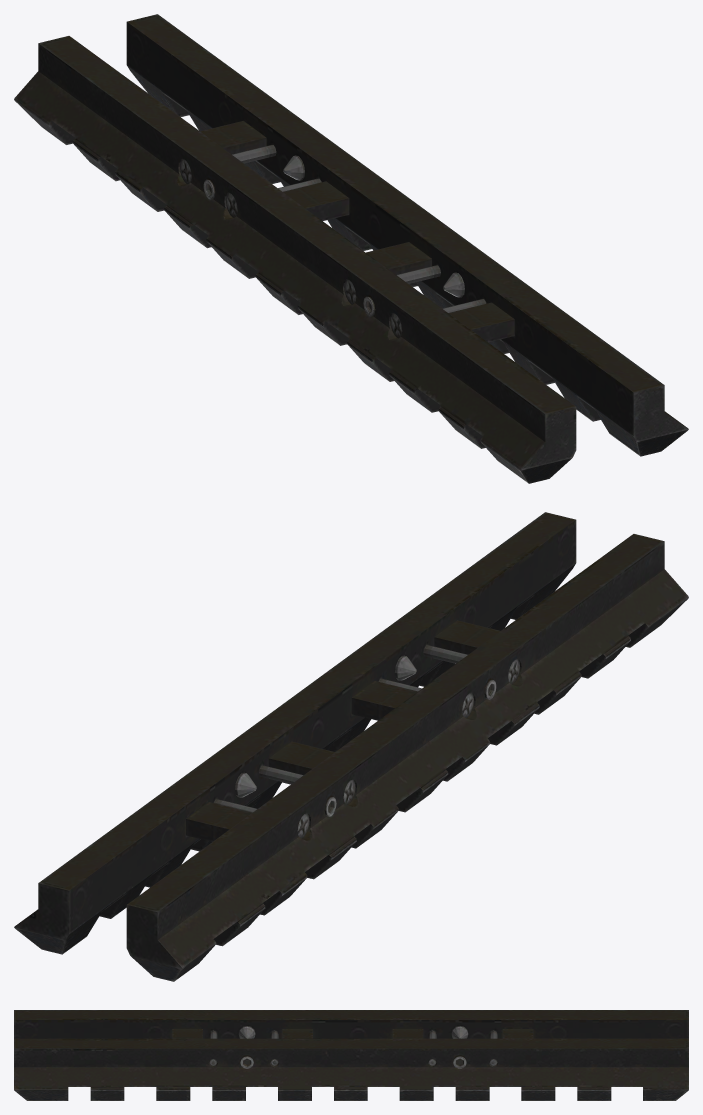
The picture shows the model from 3 angles, top to bottom: view 1: azimuth 30°, elevation 25°; view 2: azimuth 150°, elevation 25°; view 3: azimuth 270°, elevation 25°; orthographic projection. The views are drawn at different scales.
Parts seen in each view (by area): view 1: TW_5dfe14f30b92095fd441edaf_PZ_Import; view 2: TW_5dfe14f30b92095fd441edaf_PZ_Import; view 3: TW_5dfe14f30b92095fd441edaf_PZ_Import.
Boxes of the visible parts, left/top/right/bottom form: TW_5dfe14f30b92095fd441edaf_PZ_Import: left=14, top=14, right=688, bottom=483; TW_5dfe14f30b92095fd441edaf_PZ_Import: left=14, top=512, right=688, bottom=981; TW_5dfe14f30b92095fd441edaf_PZ_Import: left=14, top=1010, right=688, bottom=1100.
Bounding box in the file's own units: 0.0122 × 0.0636 × 0.0052.
1 material, 1 textured.
